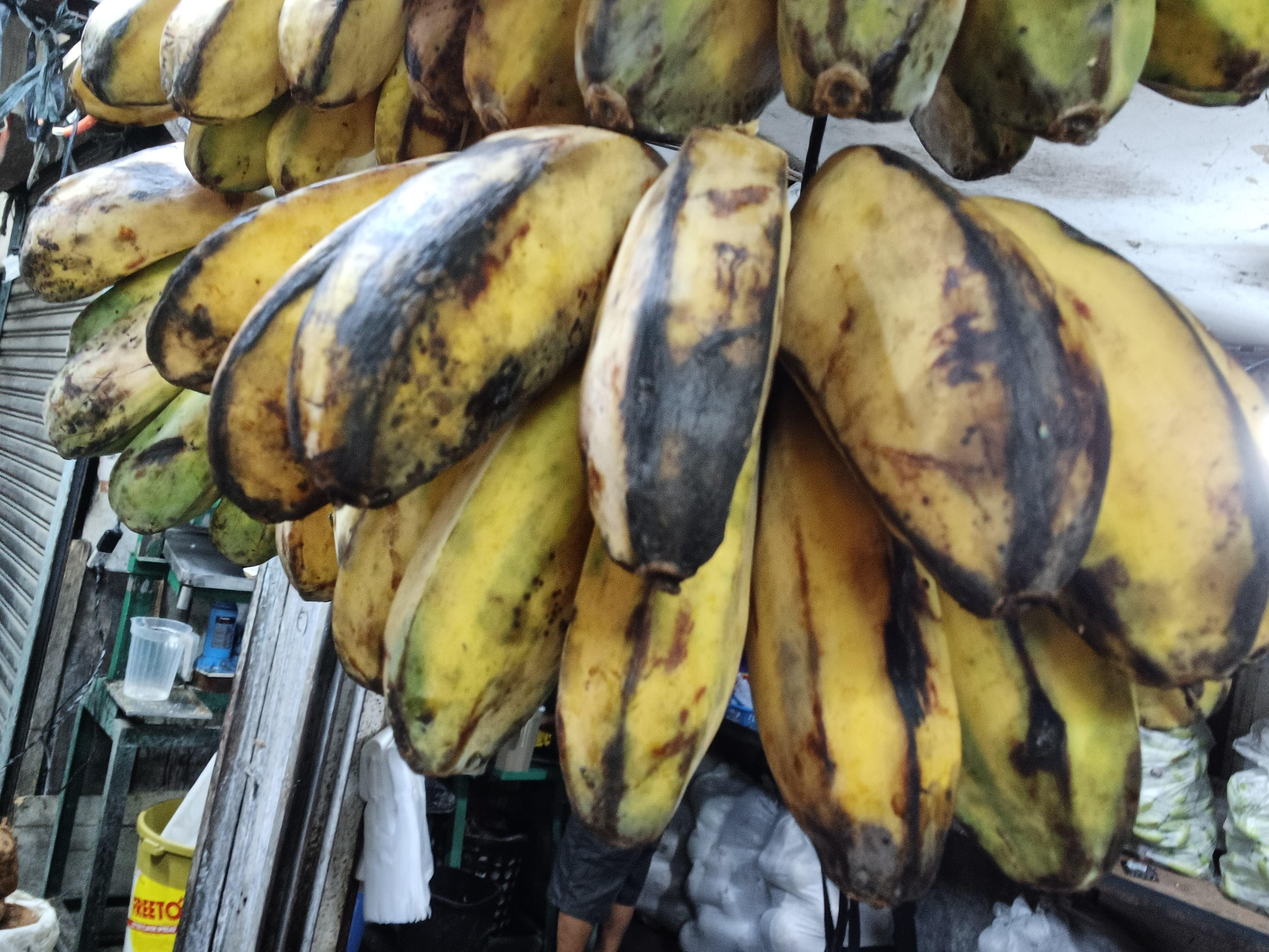ripe: (146, 126, 1269, 904), (70, 0, 488, 197)
underripe: (465, 0, 1269, 180), (21, 143, 277, 568)
